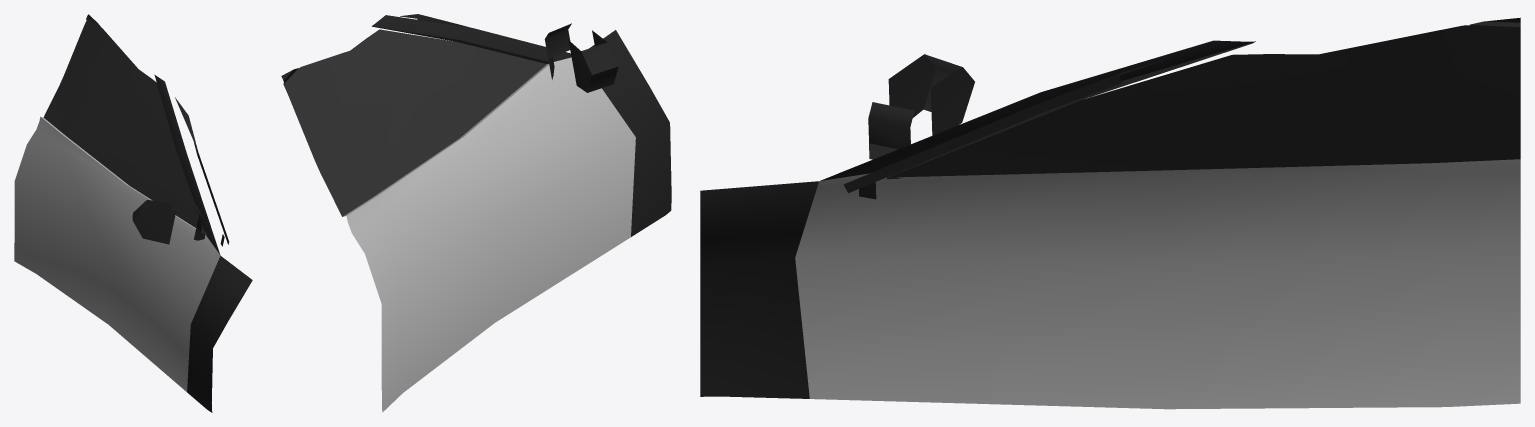
File: police-left.glb
3 renders of one model, left to right at view 1: azimuth 30°, elevation 25°; view 2: azimuth 150°, elevation 25°; view 3: azimuth 270°, elevation 25°, orthographic. The views are drawn at different scales.
Bounding box in the file's own units: 0.32 × 0.69 × 1.12.
Materials: 1 (1 with a texture image).
